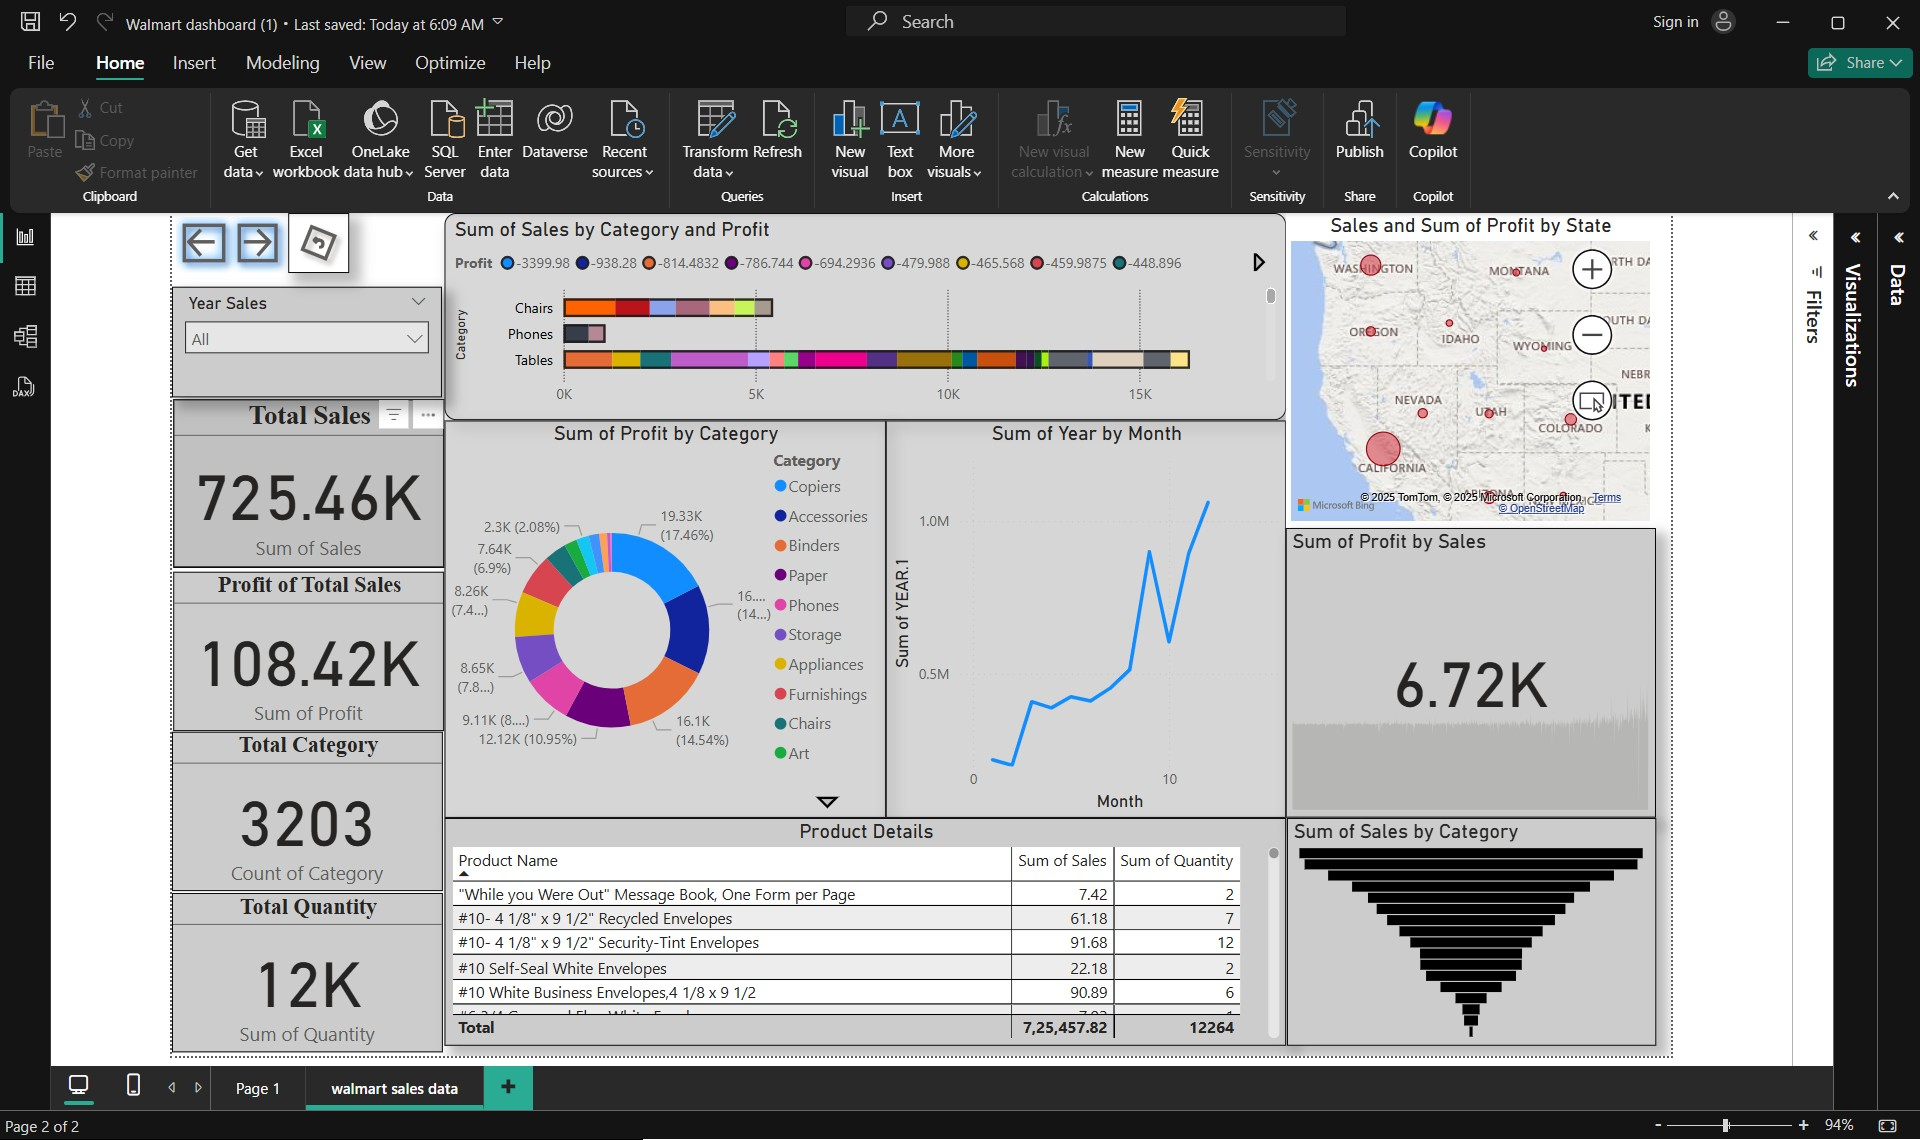

This screenshot's page, from the dashboard's own definition file:
{"tool":"powerbi","page":{"name":"walmart sales data","canvas":[1280,720],"ordinal":1},"visuals":[{"type":"card","title":"Total Sales ","fields":{"Values":["Sum(Walmart.Sales)"]},"box":[1.2,159.3,231.4,144.2],"z":0},{"type":"card","title":"Profit of Total Sales","fields":{"Values":["Sum(Walmart.Profit)"]},"box":[1.2,305.8,231.4,136],"z":1000},{"type":"card","title":"Total Category","fields":{"Values":["CountNonNull(Walmart.Category)"]},"box":[0,443,231.4,136],"z":2000},{"type":"card","title":"Total Quantity","fields":{"Values":["Sum(Walmart.Quantity)"]},"box":[0,580.2,231.4,136],"z":3000},{"type":"barChart","fields":{"Series":["Walmart.Profit"],"Y":["Sum(Walmart.Sales)"],"Category":["Walmart.Category"]},"box":[232.6,0,718.6,176.7],"z":4000},{"type":"donutChart","fields":{"Category":["Walmart.Category"],"Y":["Sum(Walmart.Profit)"]},"box":[232.6,176.7,376.7,339.5],"z":5000},{"type":"lineChart","title":"Sum of Year by Month","fields":{"Category":["Walmart.Month"],"Y":["Sum(Walmart.YEAR.1)"]},"box":[609.3,176.7,341.9,339.5],"z":6000},{"type":"slicer","fields":{"Values":["Walmart.YEAR.1","Walmart.Category","Walmart.State"]},"box":[0,62.8,230.2,94.2],"z":7000},{"type":"map","title":"Sales and Sum of Profit by State","fields":{"Category":["Walmart.State"],"Size":["Sum(Walmart.Sales)"]},"box":[951.2,0,316.3,268.6],"z":8000},{"type":"tableEx","title":"Product Details","fields":{"Values":["Walmart.Product Name","Sum(Walmart.Sales)","Sum(Walmart.Quantity)"]},"box":[289.2,522.8,718.1,194.2],"z":9000},{"type":"kpi","fields":{"Indicator":["Sum(Walmart.Profit)"],"TrendLine":["Walmart.Sales"]},"box":[951,269,316,247],"z":10000},{"type":"funnel","fields":{"Category":["Walmart.Category"],"Y":["Sum(Walmart.Sales)"]},"box":[952,516,315,194],"z":11000},{"type":"actionButton","box":[0,0,54.7,51.2],"z":12000},{"type":"actionButton","box":[46.5,0,52.3,51.2],"z":13000},{"type":"actionButton","box":[98.8,0,52.3,51.2],"z":14000}]}

Visuals, with their boxes on the page's 1280x720 design canvas (x1, y1, x2, y2). These are canvas units, not pixel positions in the 1920x1140 screenshot, which may show the page scaled, cropped or inside an application window:
"Total Sales " card: bbox=[1, 159, 233, 304]
"Profit of Total Sales" card: bbox=[1, 306, 233, 442]
"Total Category" card: bbox=[0, 443, 231, 579]
"Total Quantity" card: bbox=[0, 580, 231, 716]
barChart - Walmart.Profit x Sum(Walmart.Sales): bbox=[233, 0, 951, 177]
donutChart - Walmart.Category x Sum(Walmart.Profit): bbox=[233, 177, 609, 516]
"Sum of Year by Month" lineChart: bbox=[609, 177, 951, 516]
slicer - Walmart.YEAR.1 x Walmart.Category: bbox=[0, 63, 230, 157]
"Sales and Sum of Profit by State" map: bbox=[951, 0, 1268, 269]
"Product Details" tableEx: bbox=[289, 523, 1007, 717]
kpi - Sum(Walmart.Profit) x Walmart.Sales: bbox=[951, 269, 1267, 516]
funnel - Walmart.Category x Sum(Walmart.Sales): bbox=[952, 516, 1267, 710]
actionButton: bbox=[0, 0, 55, 51]
actionButton: bbox=[46, 0, 99, 51]
actionButton: bbox=[99, 0, 151, 51]
